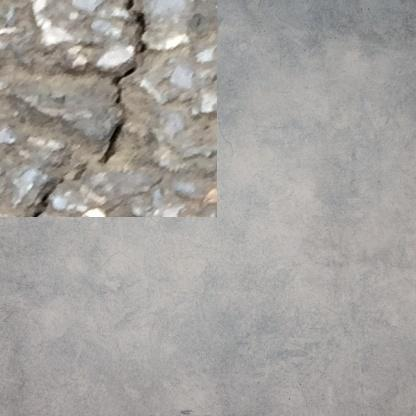Cracks: (108, 0, 138, 52), (89, 107, 118, 154), (27, 163, 60, 201), (102, 59, 128, 98)
